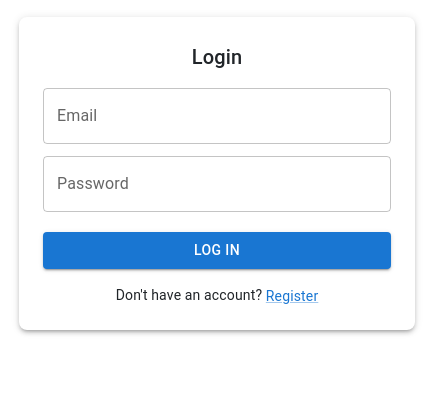
Test: LoginForm Component › displays error message on failed login
Type "wrong@example.com" into the field labelled "Email" at (217, 116), box [43,88,391,144]
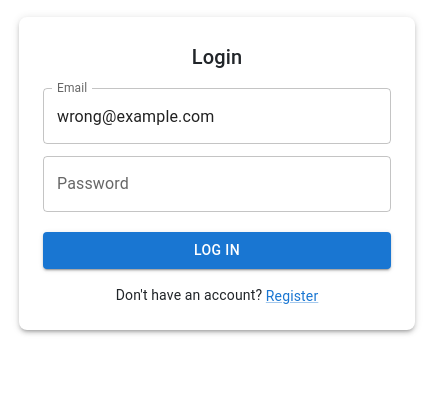
Type "wrongpass" into the password field labelled "Password" at (217, 184), box [43,156,391,212]
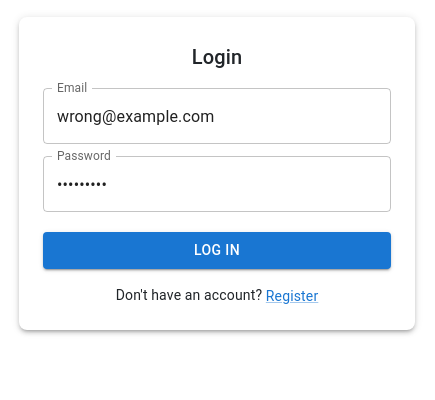
Click the button "Log In" at (217, 250), box [43,232,391,268]
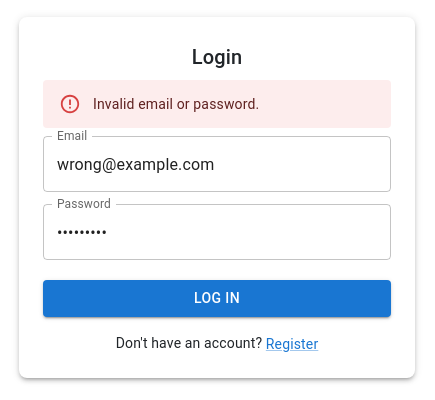
Check: the text "Invalid email or password." is shown, box [93,96,259,112]
